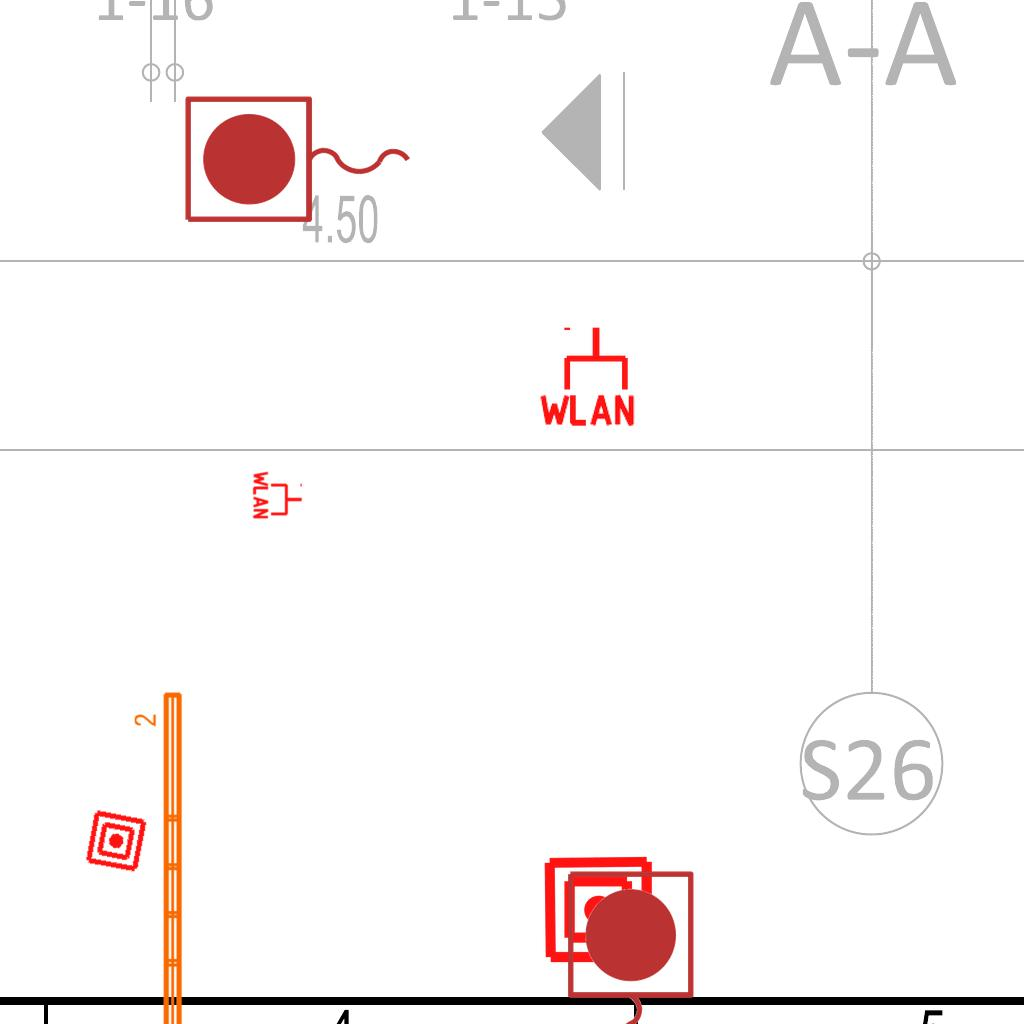Ambulanz_Pendelleuchte_LED: (132, 688, 188, 1024)
NAM-Nichtautomatischer_Melder: (542, 853, 655, 966), (83, 808, 149, 874)
WLAN: (535, 323, 639, 428), (252, 469, 304, 521)
Zugtaster: (177, 89, 421, 233), (557, 863, 701, 1024)
